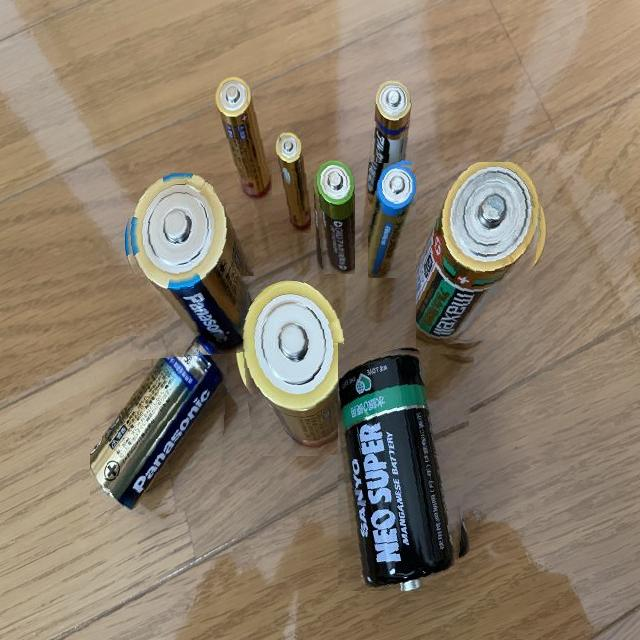battery: (338, 343, 474, 591), (90, 336, 230, 523), (416, 162, 548, 350), (122, 173, 254, 360), (235, 276, 345, 456), (209, 71, 272, 202), (362, 79, 412, 206), (368, 162, 420, 278), (310, 153, 355, 274), (271, 129, 311, 233)
